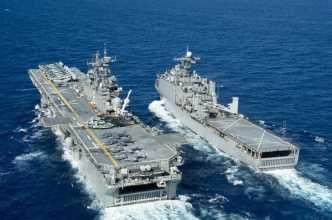warship: (16, 39, 182, 201), (155, 45, 305, 171)
